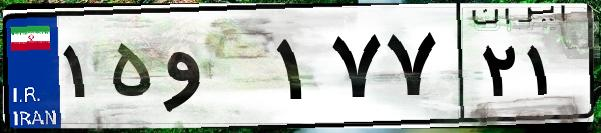1: (270, 28, 330, 110), (57, 26, 110, 100), (525, 38, 570, 115)
2: (475, 38, 525, 113)
5: (110, 28, 158, 98)
7: (385, 28, 445, 110), (330, 28, 385, 110)
و: (158, 20, 270, 120)
